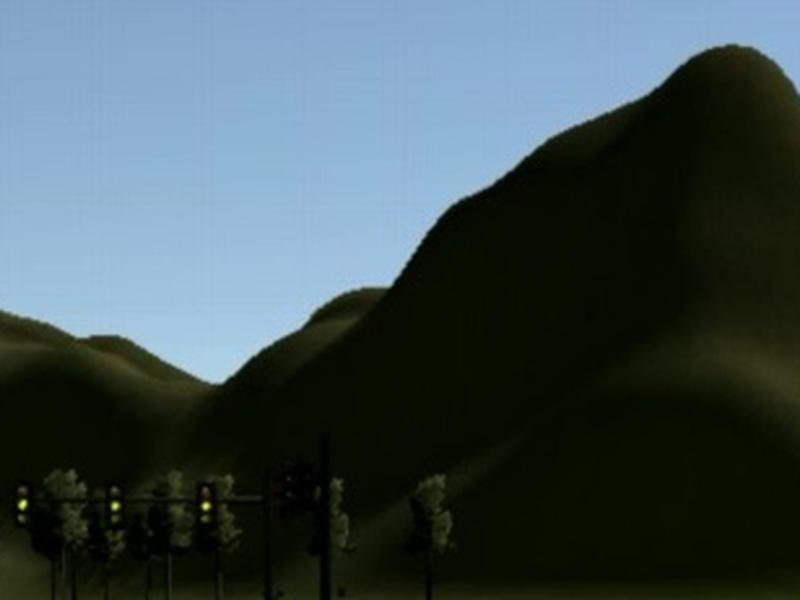Yellow: (198, 482, 216, 529), (107, 482, 125, 528), (14, 481, 32, 527)
